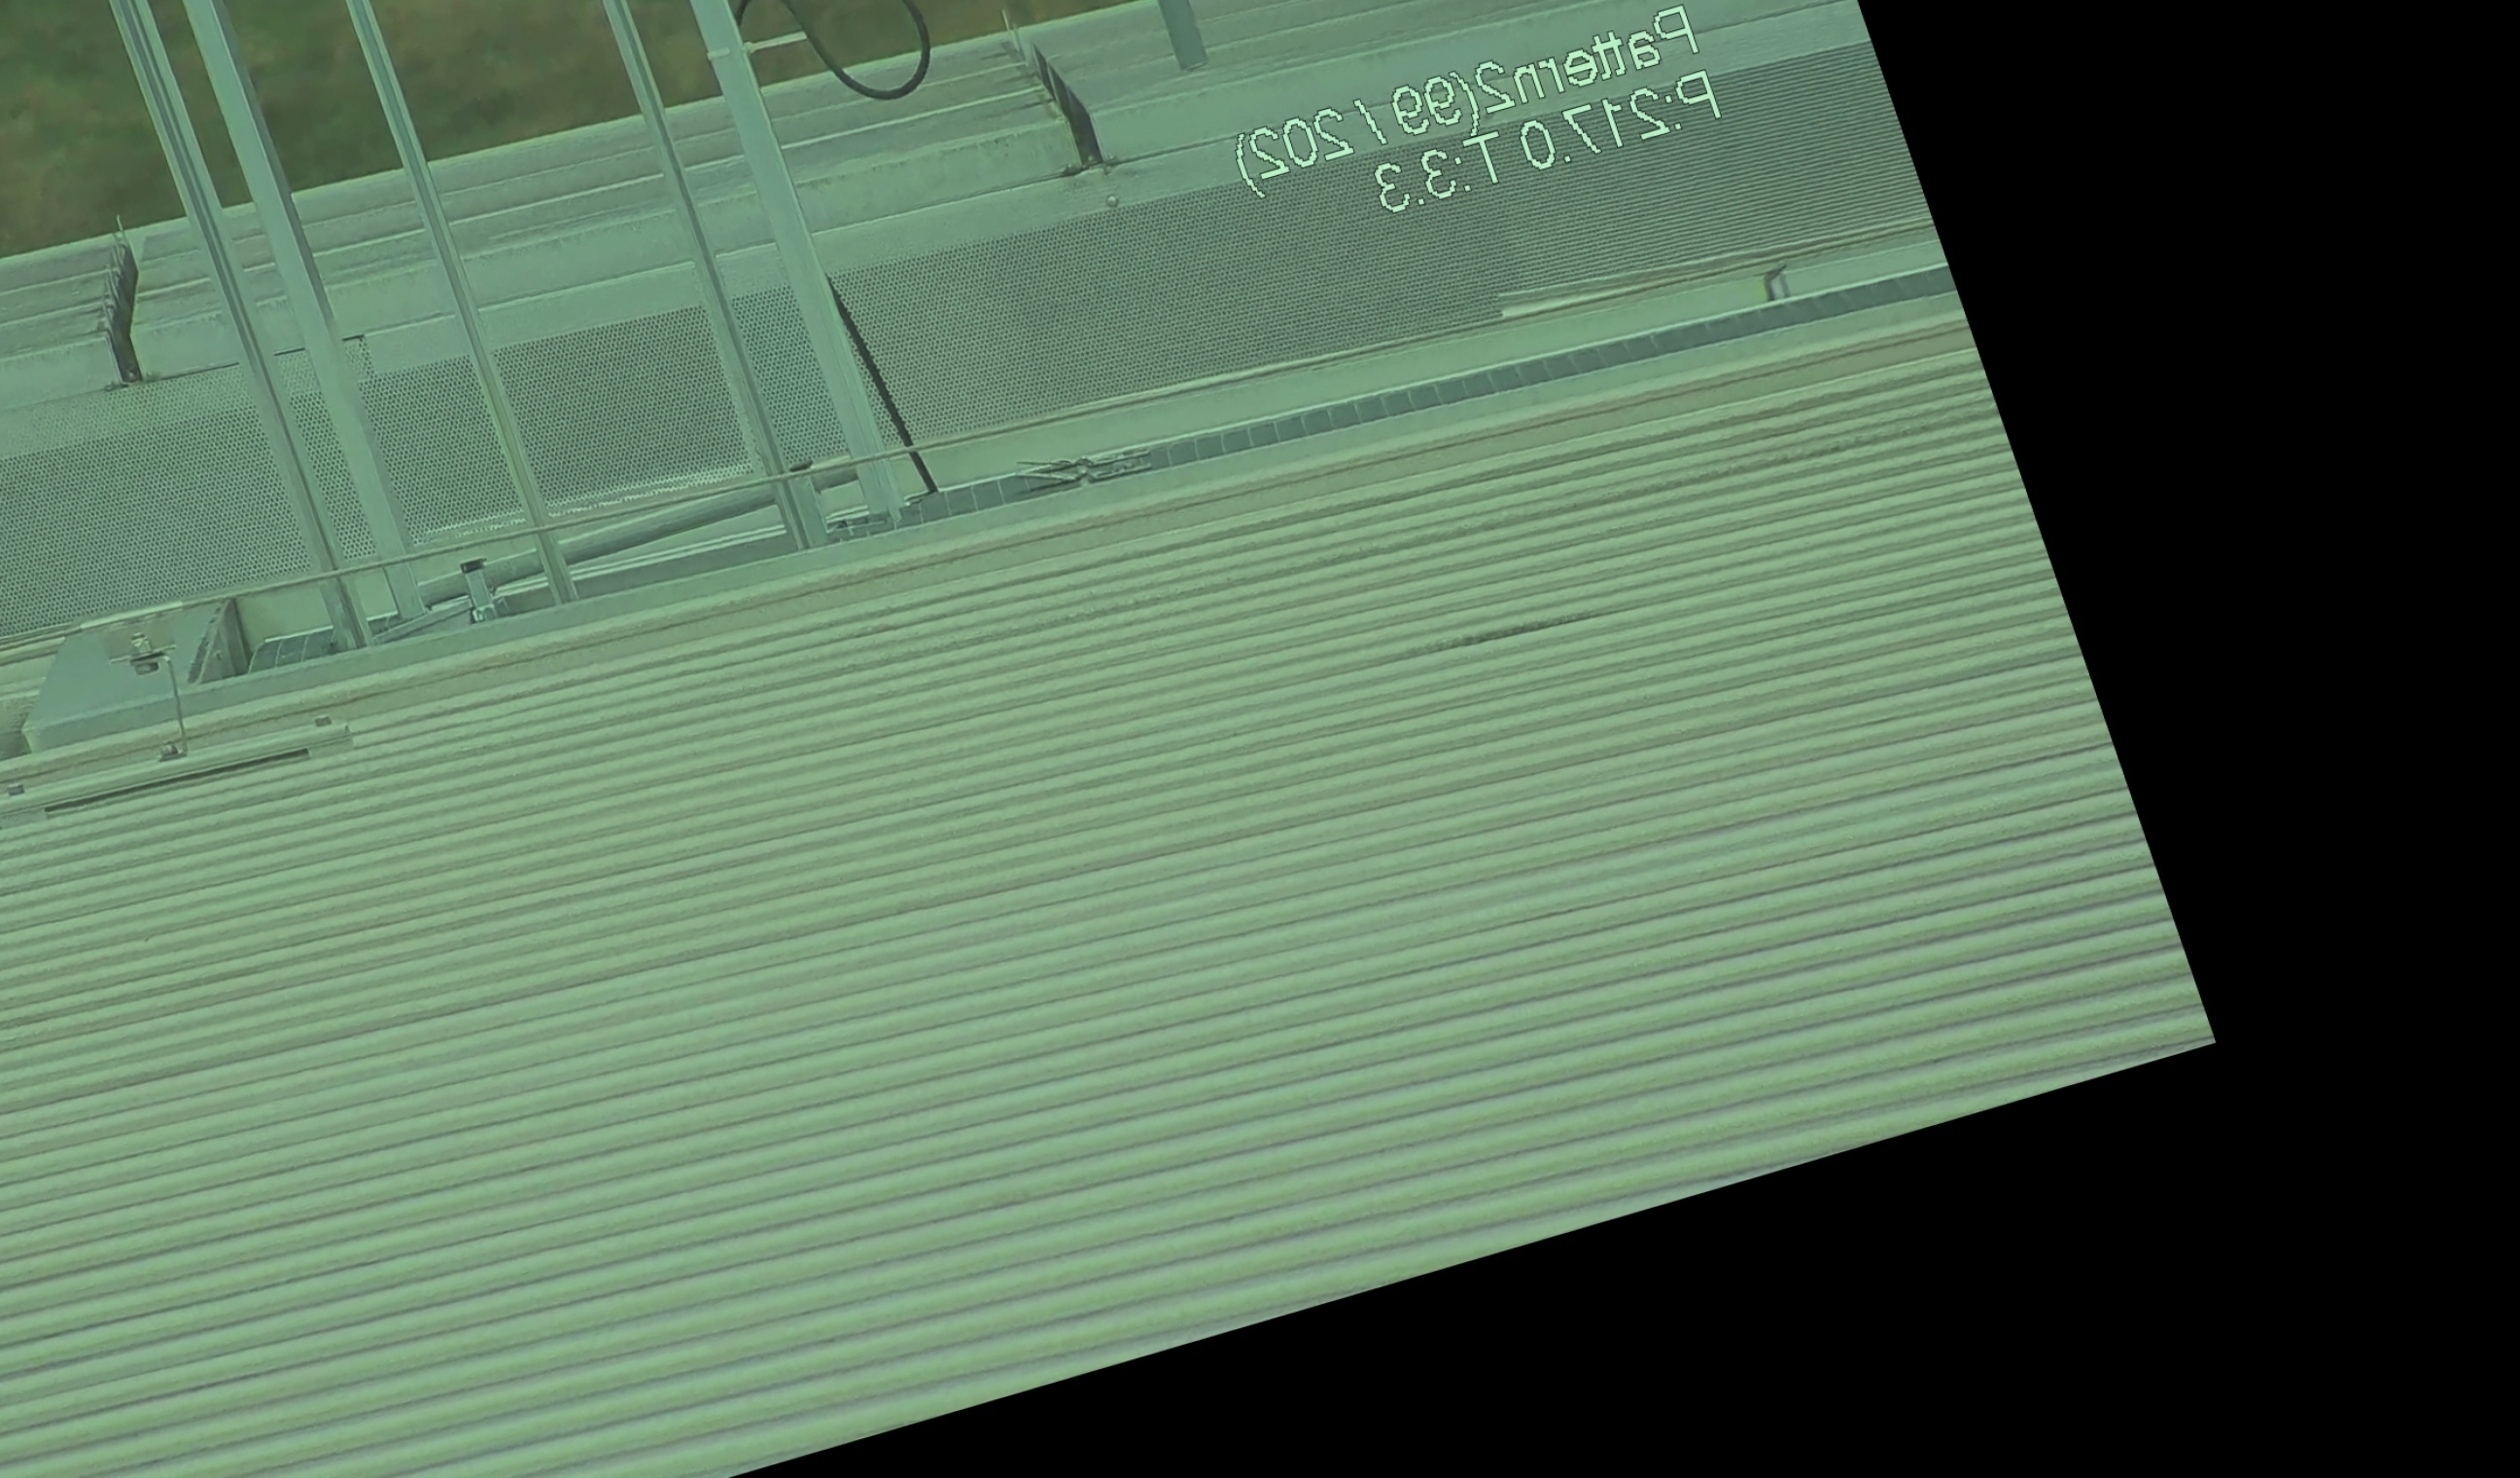Other: (42, 213, 179, 401)
